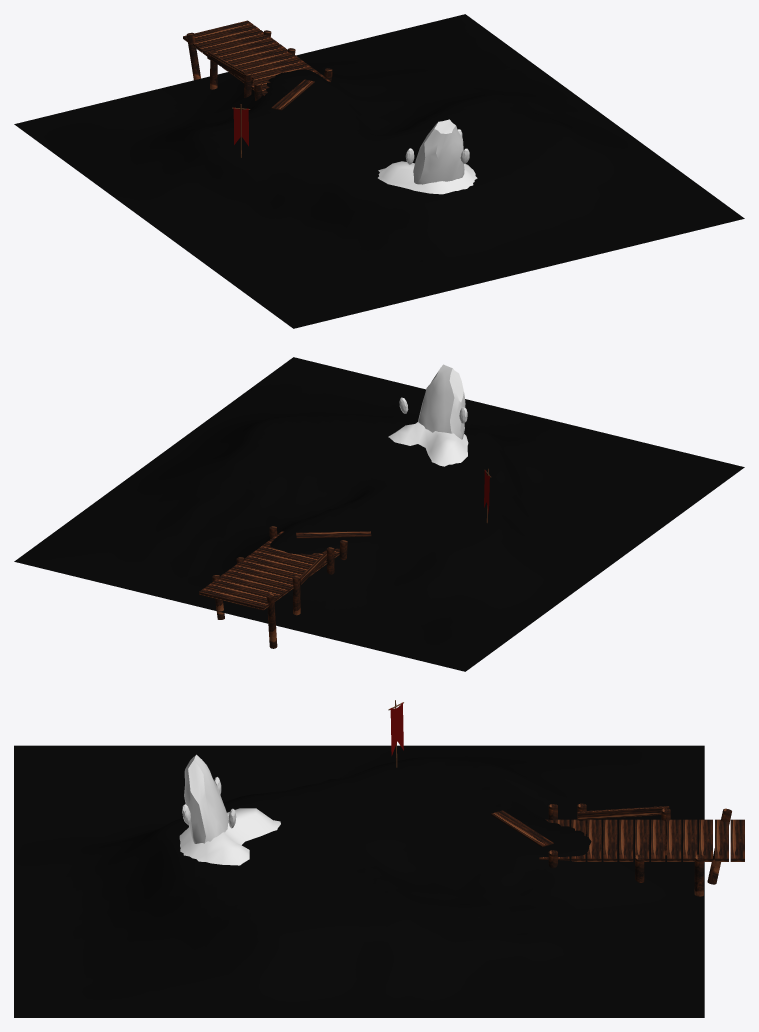
The model's file is Island.fbx.
The picture shows the model from 3 angles, top to bottom: view 1: azimuth 30°, elevation 25°; view 2: azimuth 150°, elevation 25°; view 3: azimuth 270°, elevation 25°; orthographic projection. The views are drawn at different scales.
Visible parts, largest first — view 1: Landscape, Platonic, Landscape_1; view 2: Landscape, Platonic, Landscape_1, Cube_12; view 3: Landscape, Landscape_1, Platonic, Cube, Cube_1, Cube_4, Cube_5, Cube_12, Cube_7, Cube_8, Cube_9, Cube_3 (+4 smaller).
Part boxes in pixels (box(x1,y1,x2,y2)): Landscape: box(14, 14, 744, 328); Platonic: box(413, 119, 464, 184); Landscape_1: box(378, 161, 477, 194); Landscape: box(14, 357, 744, 671); Platonic: box(418, 364, 465, 439); Landscape_1: box(388, 422, 468, 466); Cube_12: box(199, 588, 269, 610); Landscape: box(14, 745, 704, 1017); Landscape_1: box(179, 808, 280, 865); Platonic: box(184, 754, 228, 843); Cube: box(577, 806, 669, 819); Cube_1: box(491, 810, 553, 846); Cube_4: box(603, 819, 617, 861); Cube_5: box(619, 819, 633, 861); Cube_12: box(730, 819, 744, 861); Cube_7: box(651, 819, 665, 861); Cube_8: box(667, 819, 681, 861); Cube_9: box(683, 819, 697, 861); Cube_3: box(587, 819, 601, 861).
Size of the model in its own units: 961 by 243 by 1091.
4 materials, 1 textured.
